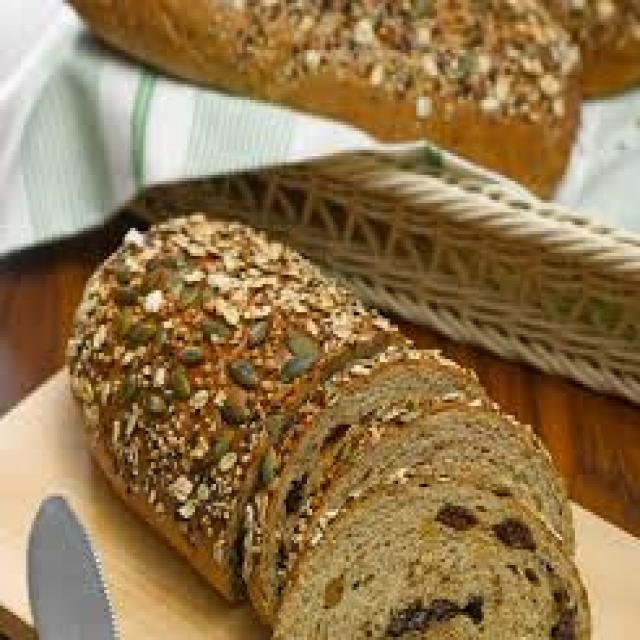organic waste: (65, 206, 408, 603), (57, 0, 575, 203), (274, 387, 572, 637), (237, 340, 494, 624), (266, 459, 590, 637), (534, 0, 638, 94)
